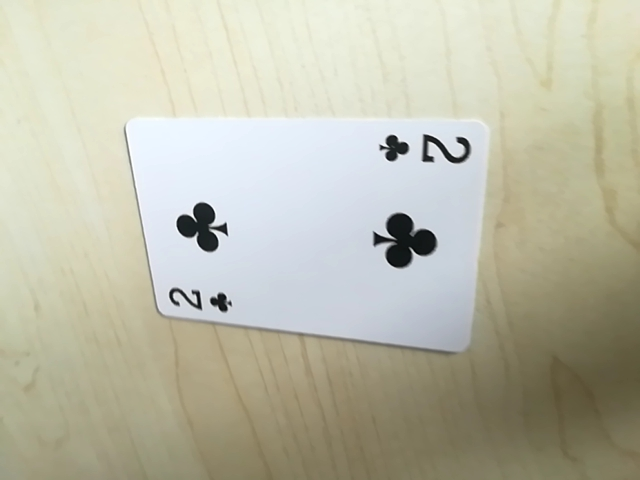mh 2: (376, 125, 476, 170), (160, 282, 237, 321)
